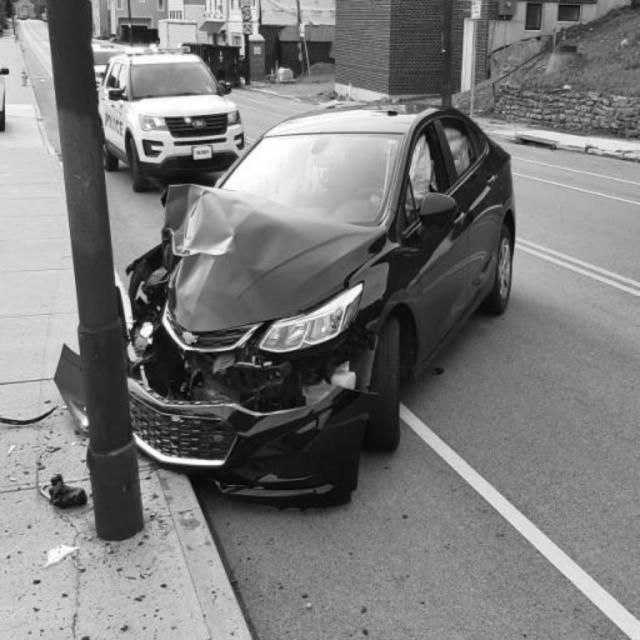accident: (99, 112, 523, 500)
vehicle: (98, 52, 250, 192)
